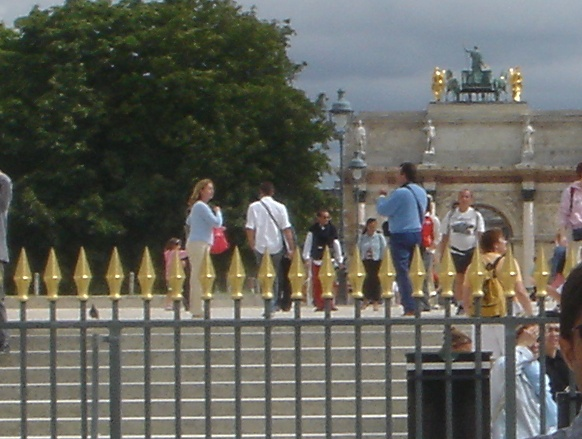person: (371, 157, 438, 315), (179, 172, 223, 321)
